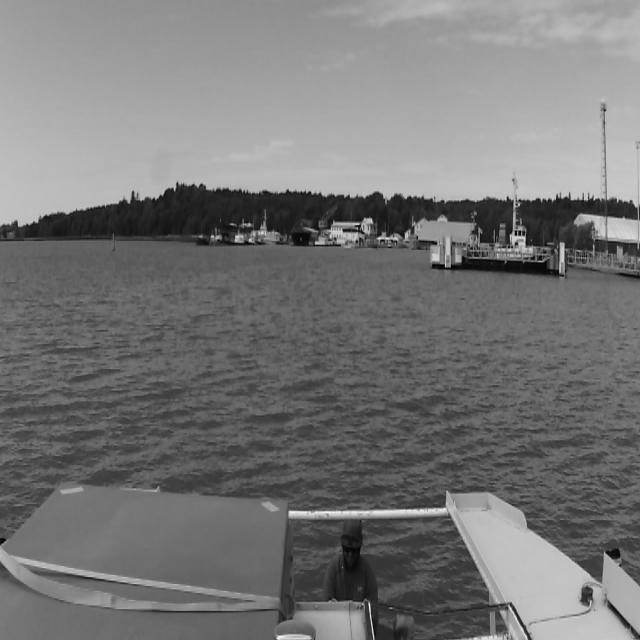buoy: (111, 232, 117, 250)
